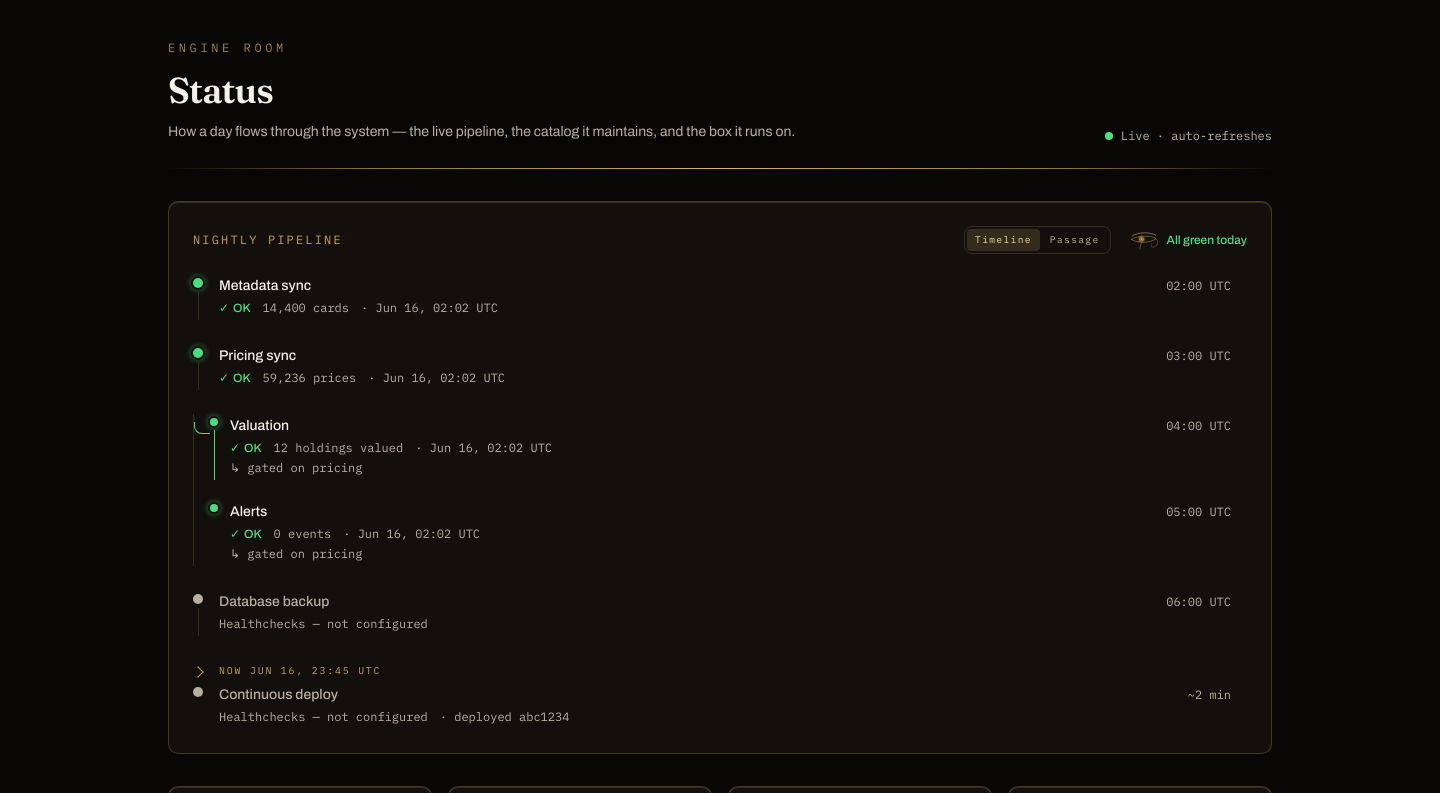
it: StatusPage › expands a stage to reveal its run detail and gate explanation
The width and height of the screenshot is (1440, 793).
Click the button "Valuation": (260, 426) [222,412,1239,480]
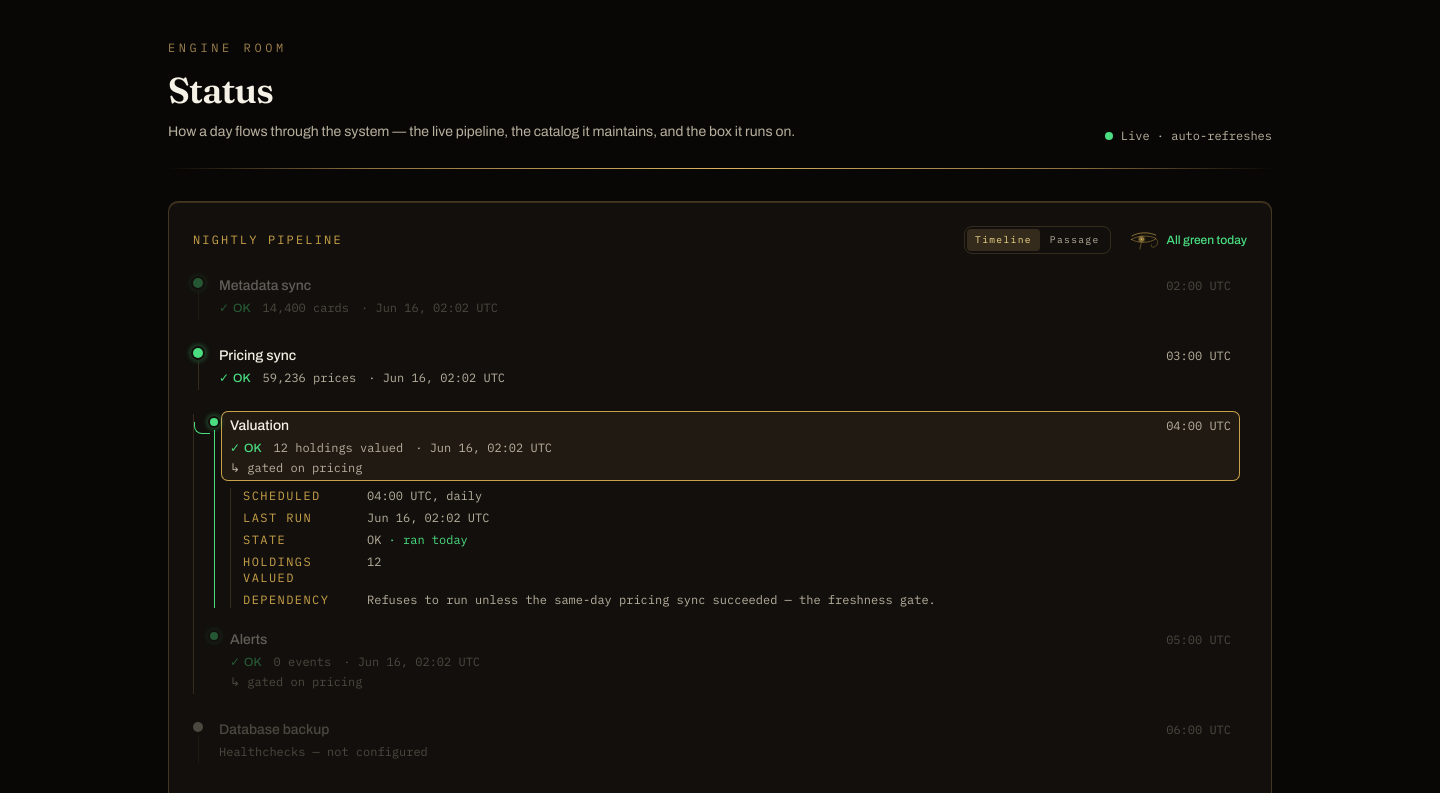
Expected: the text "freshness gate" is shown, [669,592,936,607]
Note: clicking again collapses it
Click the button "Valuation": (260, 426) [222,412,1239,480]
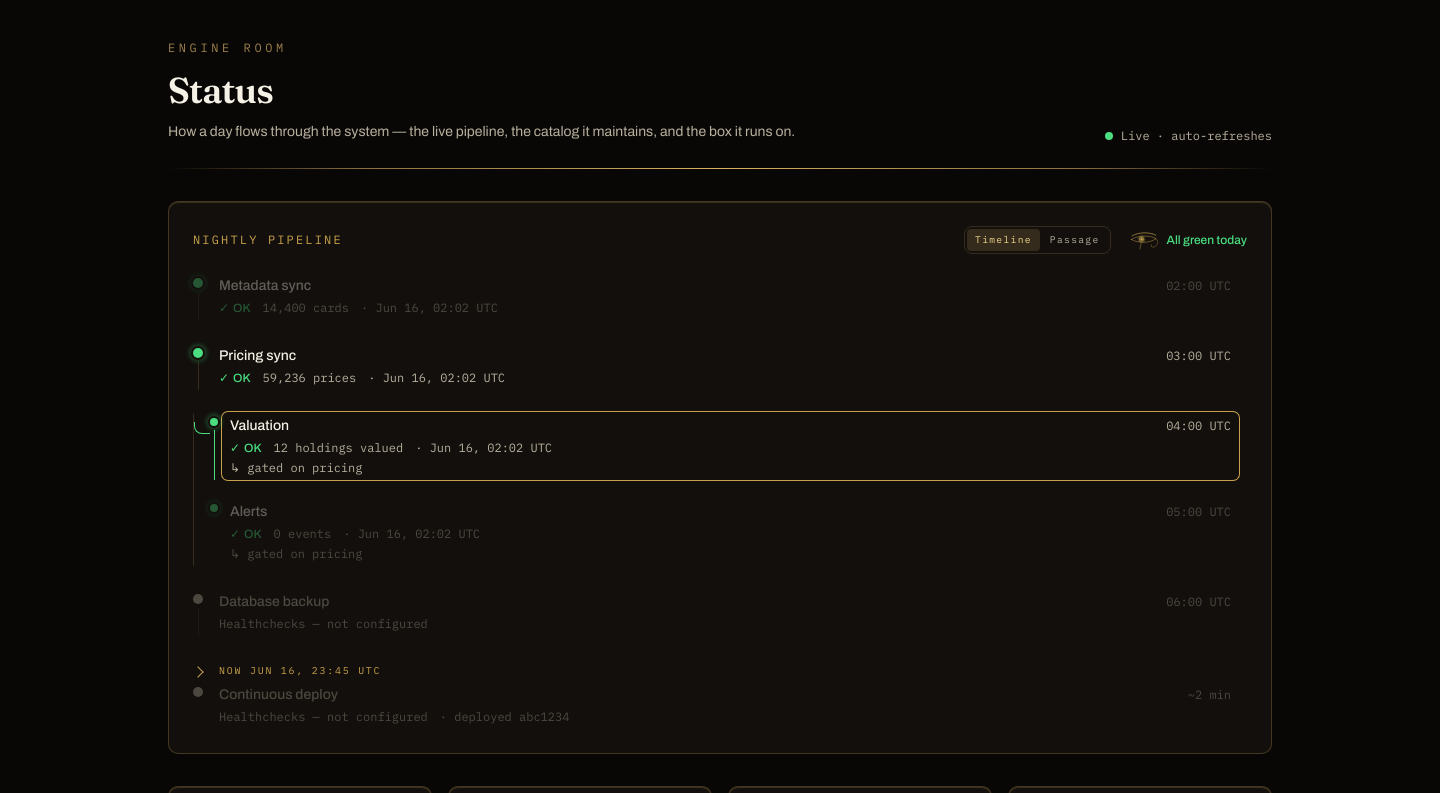
Expected: the text "freshness gate" is gone
